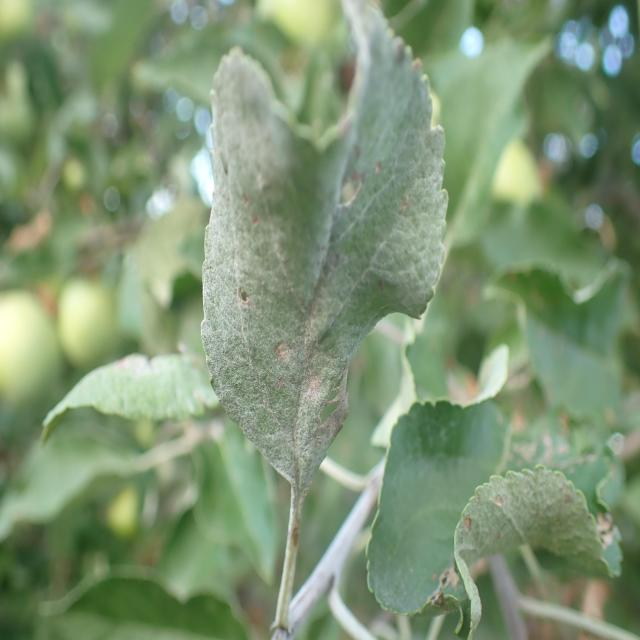Powdery_mildew: (174, 0, 455, 523)
